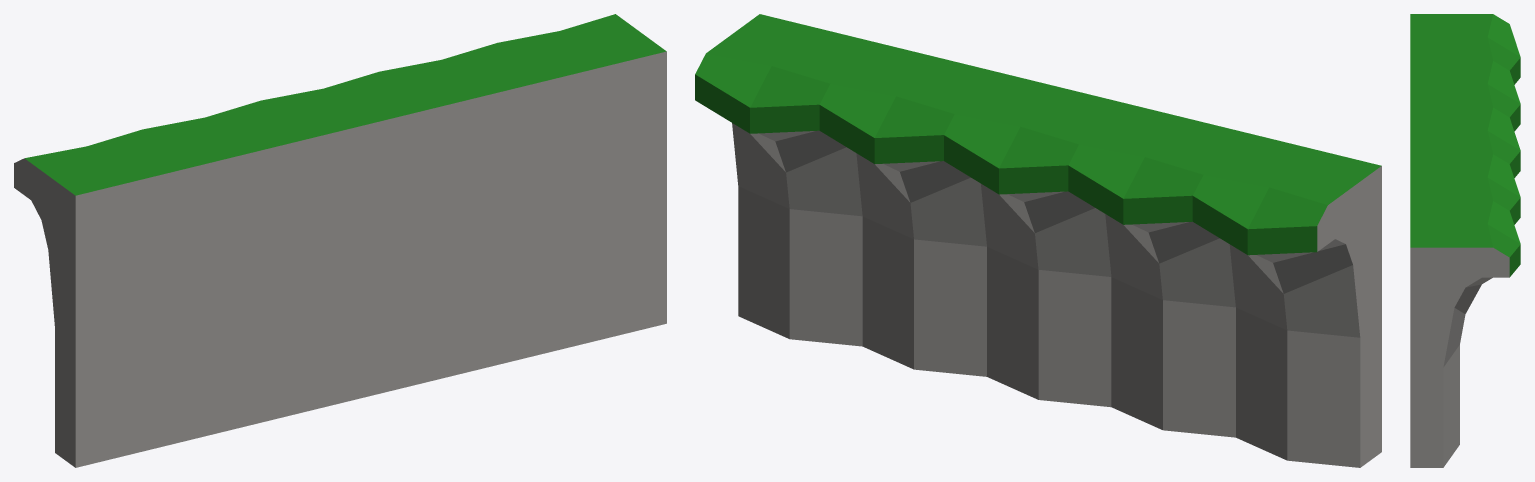
The model's file is CliffEdge1.fbx.
The picture shows the model from 3 angles, left to right: view 1: azimuth 30°, elevation 25°; view 2: azimuth 150°, elevation 25°; view 3: azimuth 270°, elevation 25°; orthographic projection. The views are drawn at different scales.
Parts seen in each view (by area): view 1: Cliff_Top_Straight_66, Cliff_Top_Straight_61, Cliff_Top_Straight_63, Cliff_Top_Straight_64, Cliff_Top_Straight_65, Cliff_Mid_Straight_55, Cliff_Mid_Straight_51, Cliff_Mid_Straight_52, Cliff_Mid_Straight_53, Cliff_Mid_Straight_54; view 2: Cliff_Top_Straight_66, Cliff_Top_Straight_63, Cliff_Top_Straight_61, Cliff_Top_Straight_64, Cliff_Top_Straight_65, Cliff_Mid_Straight_55, Cliff_Mid_Straight_52, Cliff_Mid_Straight_54, Cliff_Mid_Straight_53, Cliff_Mid_Straight_51; view 3: Cliff_Top_Straight_61, Cliff_Top_Straight_65, Cliff_Top_Straight_64, Cliff_Top_Straight_66, Cliff_Top_Straight_63, Cliff_Mid_Straight_51.
Part boxes in pixels (x1,y1,x2,y2): Cliff_Top_Straight_66: (14, 129, 193, 344); Cliff_Top_Straight_61: (497, 14, 666, 228); Cliff_Top_Straight_63: (379, 43, 548, 257); Cliff_Top_Straight_64: (261, 72, 430, 286); Cliff_Top_Straight_65: (143, 100, 311, 315); Cliff_Mid_Straight_55: (55, 315, 193, 467); Cliff_Mid_Straight_51: (548, 200, 666, 352); Cliff_Mid_Straight_52: (430, 229, 548, 381); Cliff_Mid_Straight_53: (312, 258, 430, 410); Cliff_Mid_Straight_54: (194, 286, 311, 438); Cliff_Top_Straight_66: (1192, 135, 1381, 337); Cliff_Top_Straight_63: (819, 44, 1007, 246); Cliff_Top_Straight_61: (695, 14, 883, 216); Cliff_Top_Straight_64: (944, 74, 1132, 276); Cliff_Top_Straight_65: (1068, 105, 1256, 307); Cliff_Mid_Straight_55: (1236, 307, 1381, 467); Cliff_Mid_Straight_52: (862, 216, 986, 376); Cliff_Mid_Straight_54: (1111, 277, 1235, 437); Cliff_Mid_Straight_53: (987, 247, 1111, 407); Cliff_Mid_Straight_51: (738, 186, 862, 346); Cliff_Top_Straight_61: (1410, 201, 1520, 367); Cliff_Top_Straight_65: (1410, 60, 1520, 131); Cliff_Top_Straight_64: (1410, 107, 1520, 177); Cliff_Top_Straight_66: (1410, 14, 1520, 84); Cliff_Top_Straight_63: (1410, 154, 1520, 224); Cliff_Mid_Straight_51: (1410, 345, 1459, 467).
Size of the model in its own units: 50 by 22 by 10.
